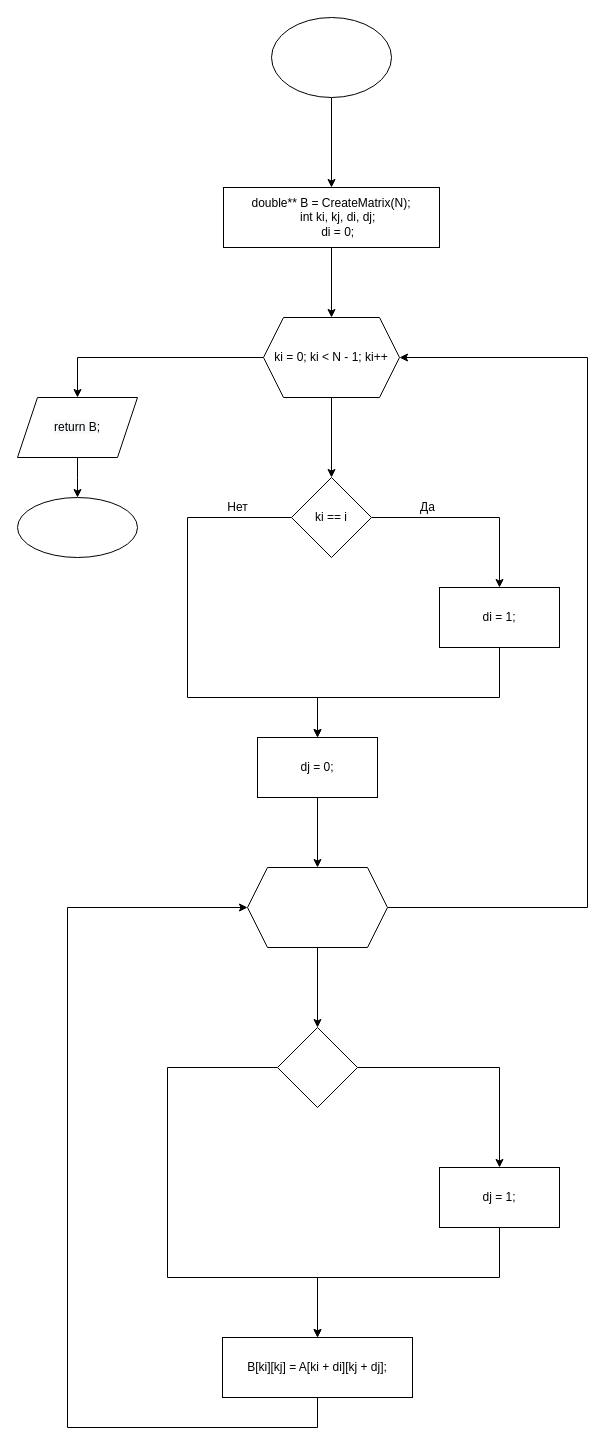
Image size: 613x1453. Some labels were removed from this diagram. The box of each missing label's shape, as (x1, y1, x2, y2) in pixels:
kj = 0; kj < N - 1; kj++: (246, 866, 388, 948)
kj == j: (276, 1026, 358, 1108)
Конец: (16, 496, 138, 558)
Начало: (270, 16, 392, 98)
